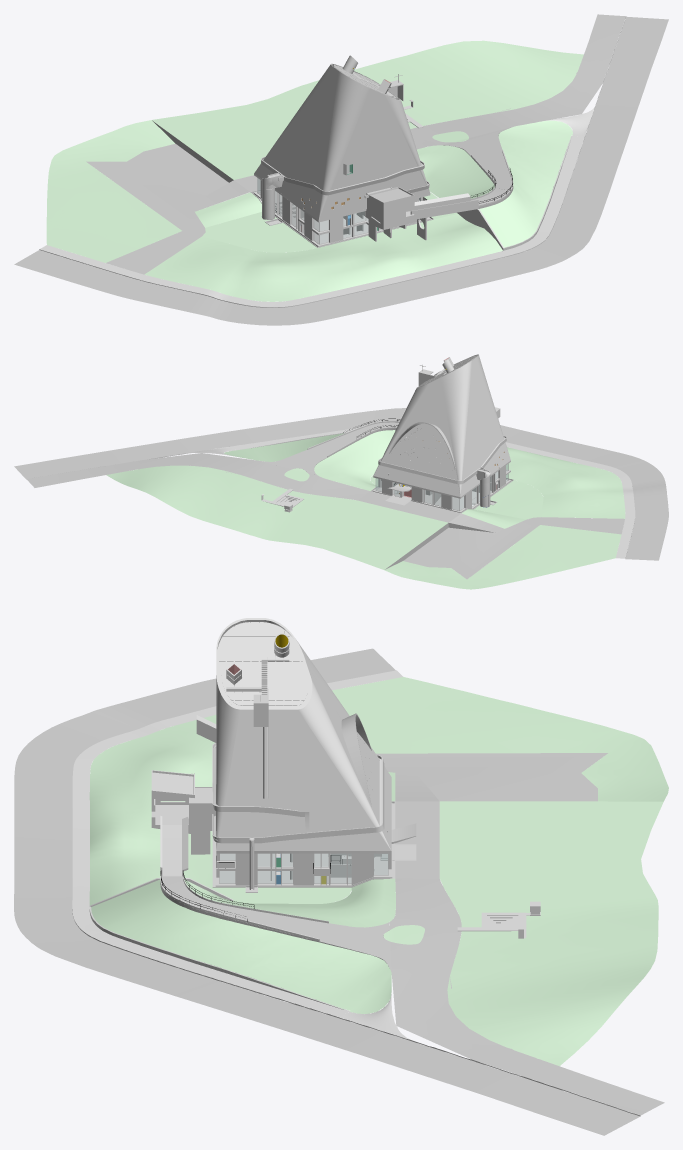
Rendered from church_web.glb.
3 renders of one model, top to bottom at view 1: azimuth 30°, elevation 25°; view 2: azimuth 150°, elevation 25°; view 3: azimuth 270°, elevation 25°, orthographic. The views are drawn at different scales.
Visible parts, largest first — view 1: web_ground, web_concrete, web_glass; view 2: web_ground, web_concrete, web_glass; view 3: web_ground, web_concrete, web_glass, web_other.
Part boxes in pixels (<box>): web_ground: <box>14,14,668,325</box>; web_concrete: <box>250,55,572,250</box>; web_glass: <box>257,165,420,243</box>; web_ground: <box>14,408,668,589</box>; web_concrete: <box>236,354,513,513</box>; web_glass: <box>376,464,508,510</box>; web_ground: <box>14,648,668,1135</box>; web_concrete: <box>89,618,416,1011</box>; web_glass: <box>220,853,387,883</box>; web_other: <box>160,634,416,921</box>.
Size of the model in its own units: 169 by 36.08 by 95.33.
